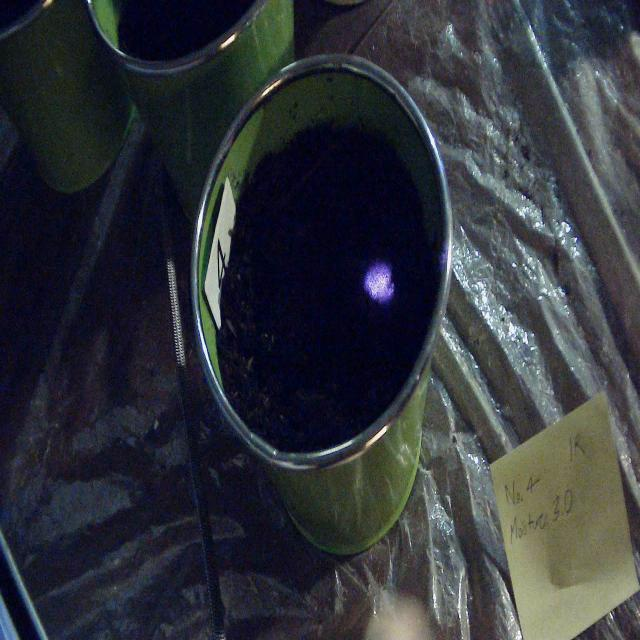soil-moisture-3.0: (364, 258, 396, 310)
